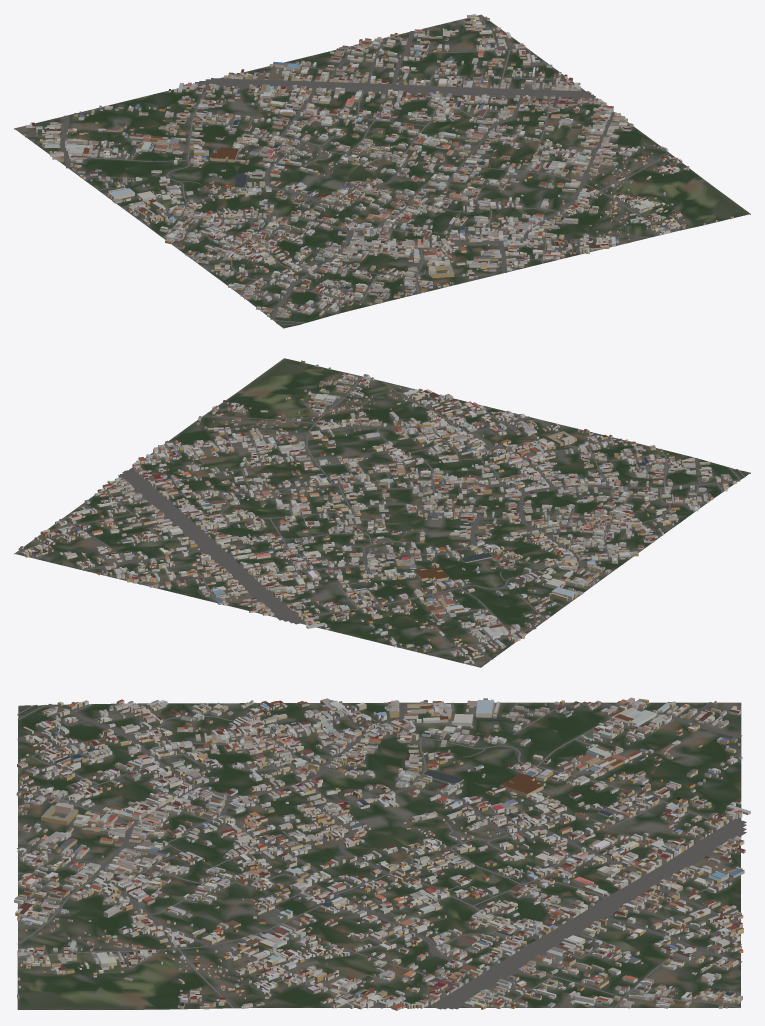
3 renders of one model, top to bottom at view 1: azimuth 30°, elevation 25°; view 2: azimuth 150°, elevation 25°; view 3: azimuth 270°, elevation 25°, orthographic. The views are drawn at different scales.
Parts seen in each view (by area): view 1: ground, buildings, roads; view 2: ground, buildings, roads; view 3: ground, buildings, roads.
Boxes of the visible parts, <box> form: ground: <box>14,15,750,328</box>; buildings: <box>23,14,733,318</box>; roads: <box>25,14,713,325</box>; ground: <box>14,358,750,667</box>; buildings: <box>18,360,736,663</box>; roads: <box>14,367,745,659</box>; ground: <box>17,702,741,1009</box>; buildings: <box>14,697,750,1010</box>; roads: <box>17,702,746,1009</box>.
Bounding box in the file's own units: 1422 × 23.97 × 1427.
